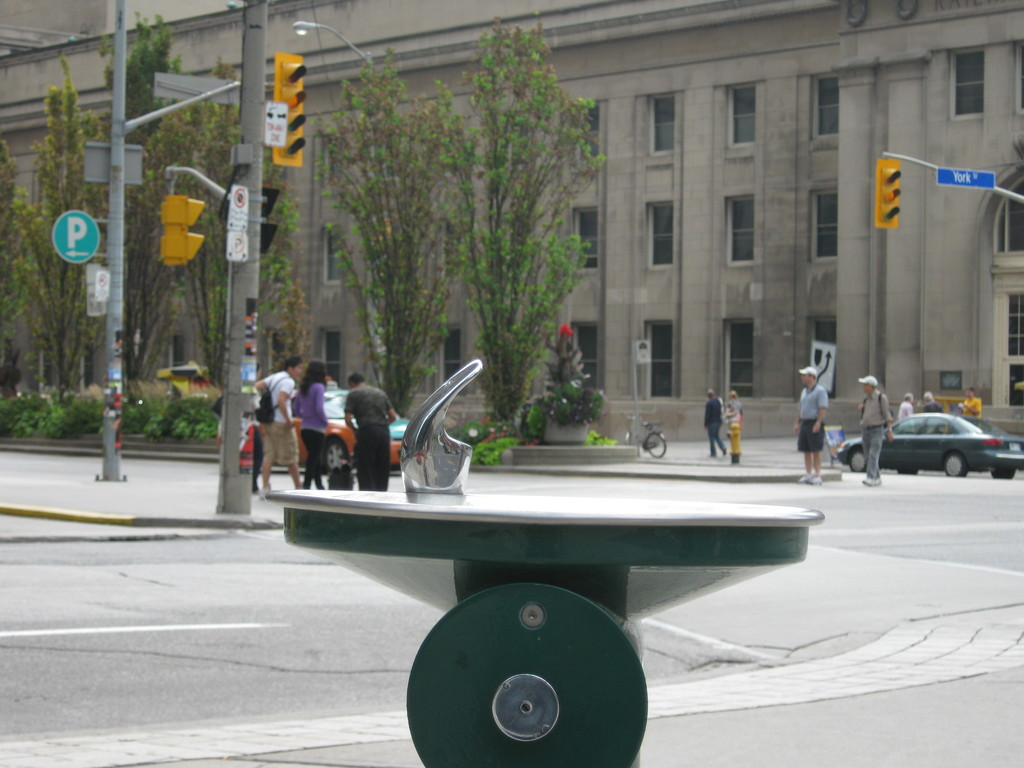Car: (856, 401, 1016, 483)
